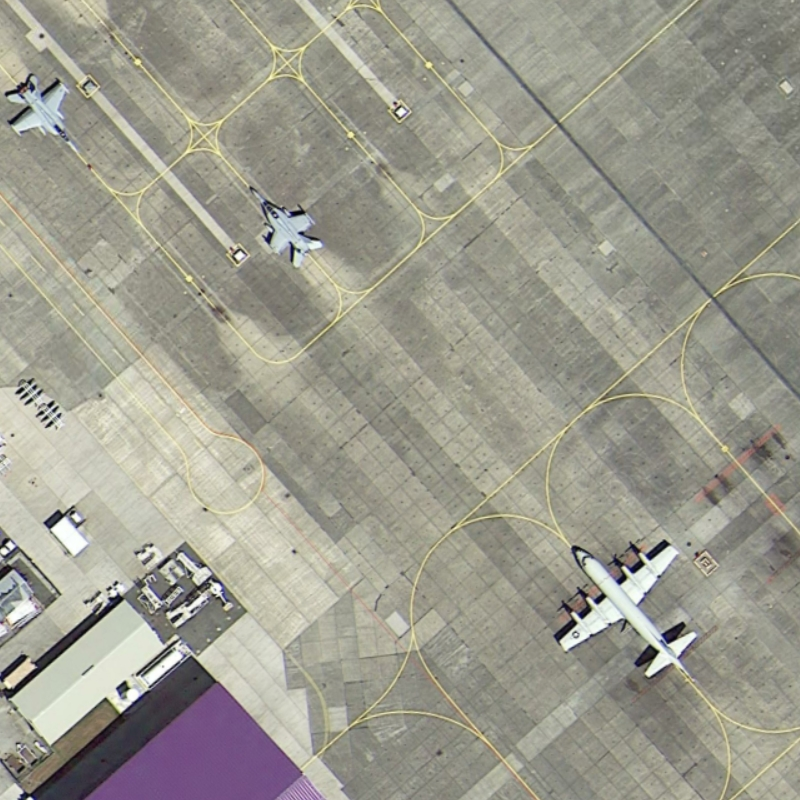A16: (244, 181, 331, 270), (2, 65, 83, 159)
A9: (551, 536, 707, 689)
